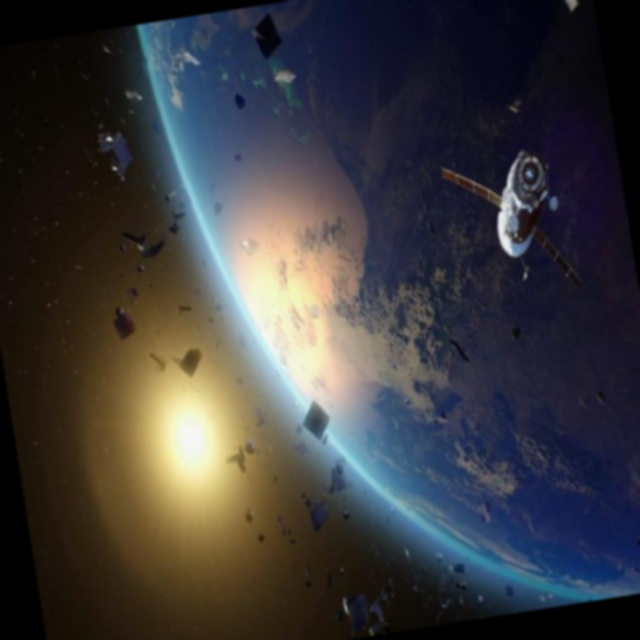large_debris: (559, 0, 587, 13)
